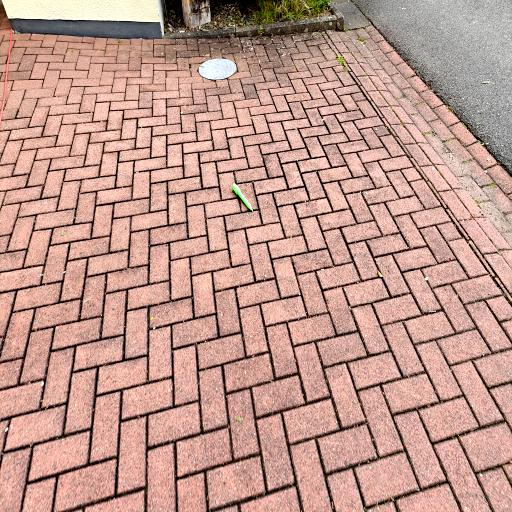Probe-Detection: (232, 184, 253, 211)
